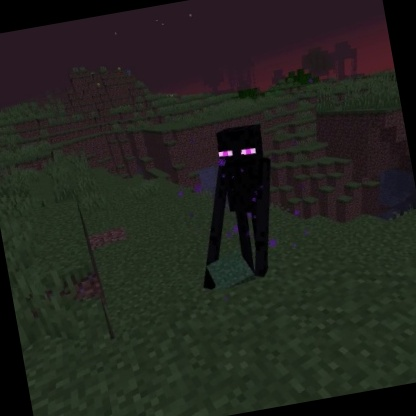enderman: (174, 120, 293, 295)
